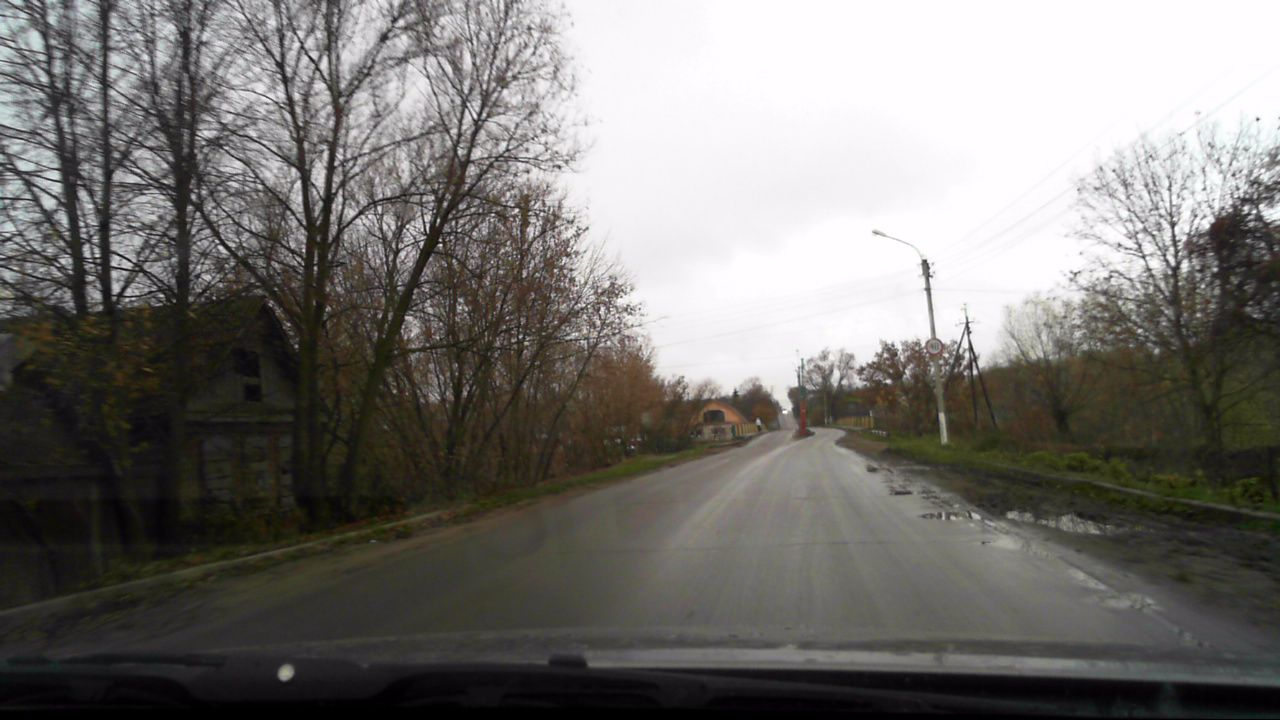speed_warning_40: (924, 337, 943, 356)
